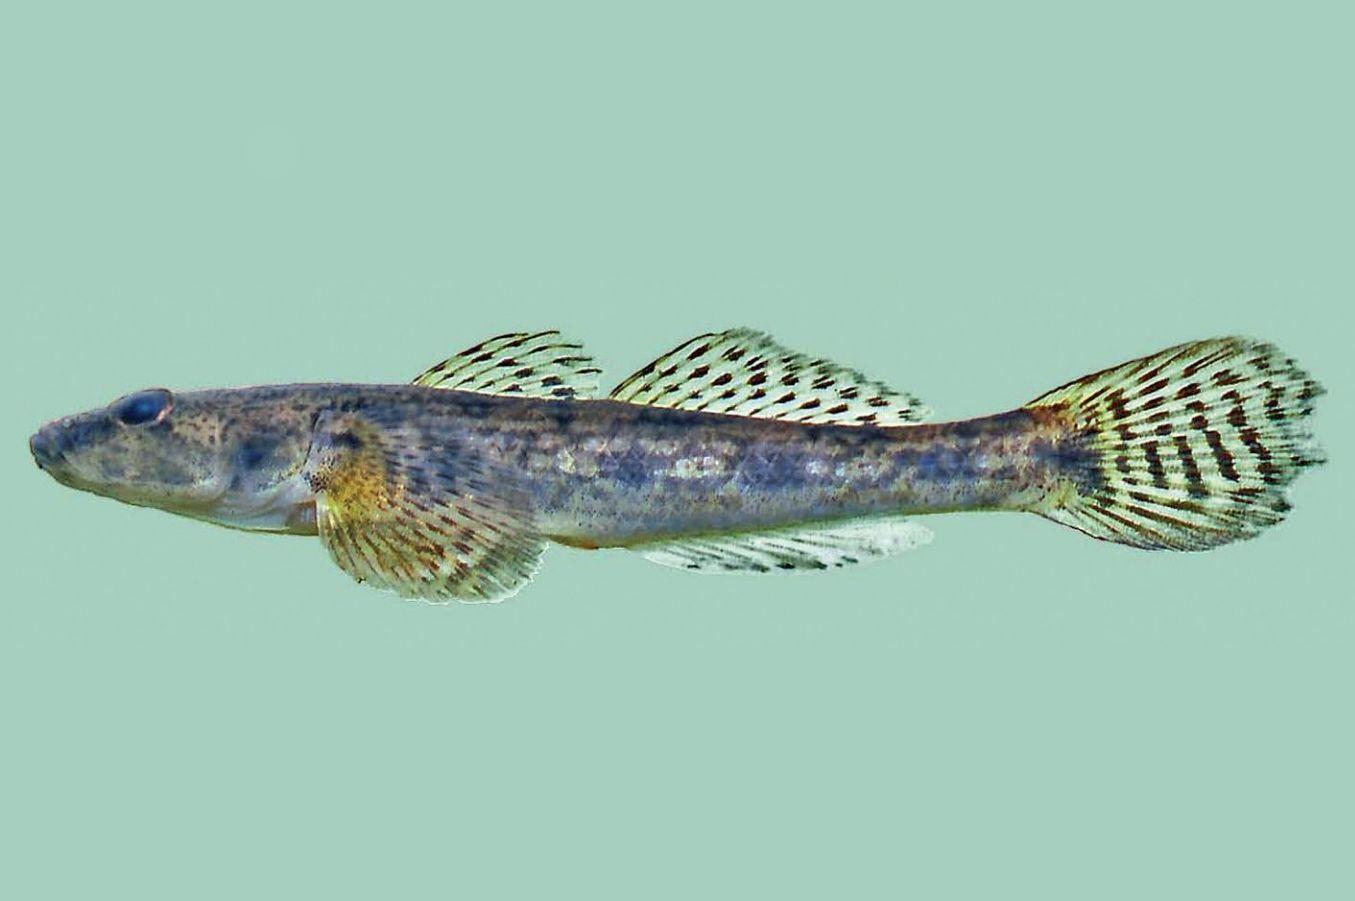Goby: (36, 273, 1330, 605)
